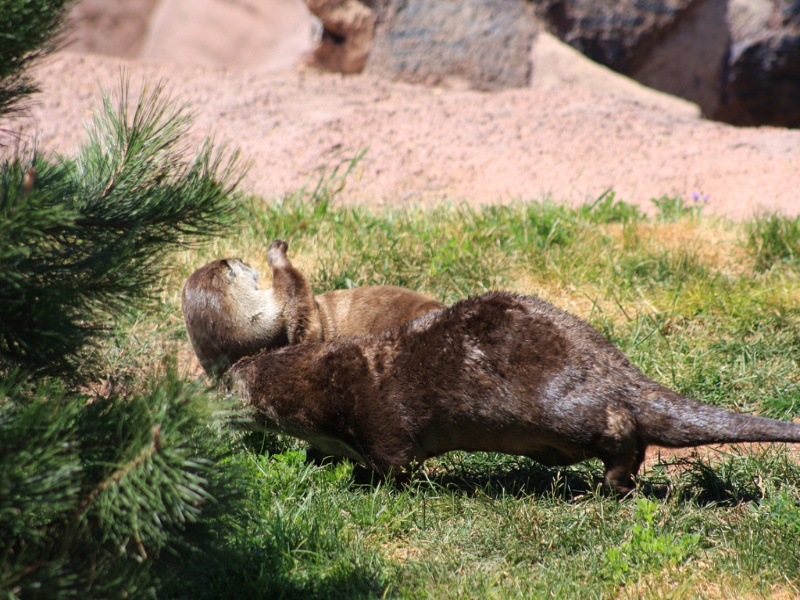minkish: (210, 291, 800, 507), (168, 248, 458, 387)
